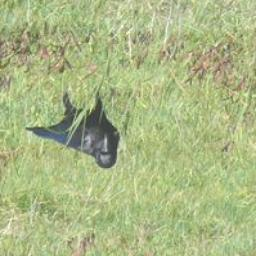Crow: (22, 87, 120, 169)
